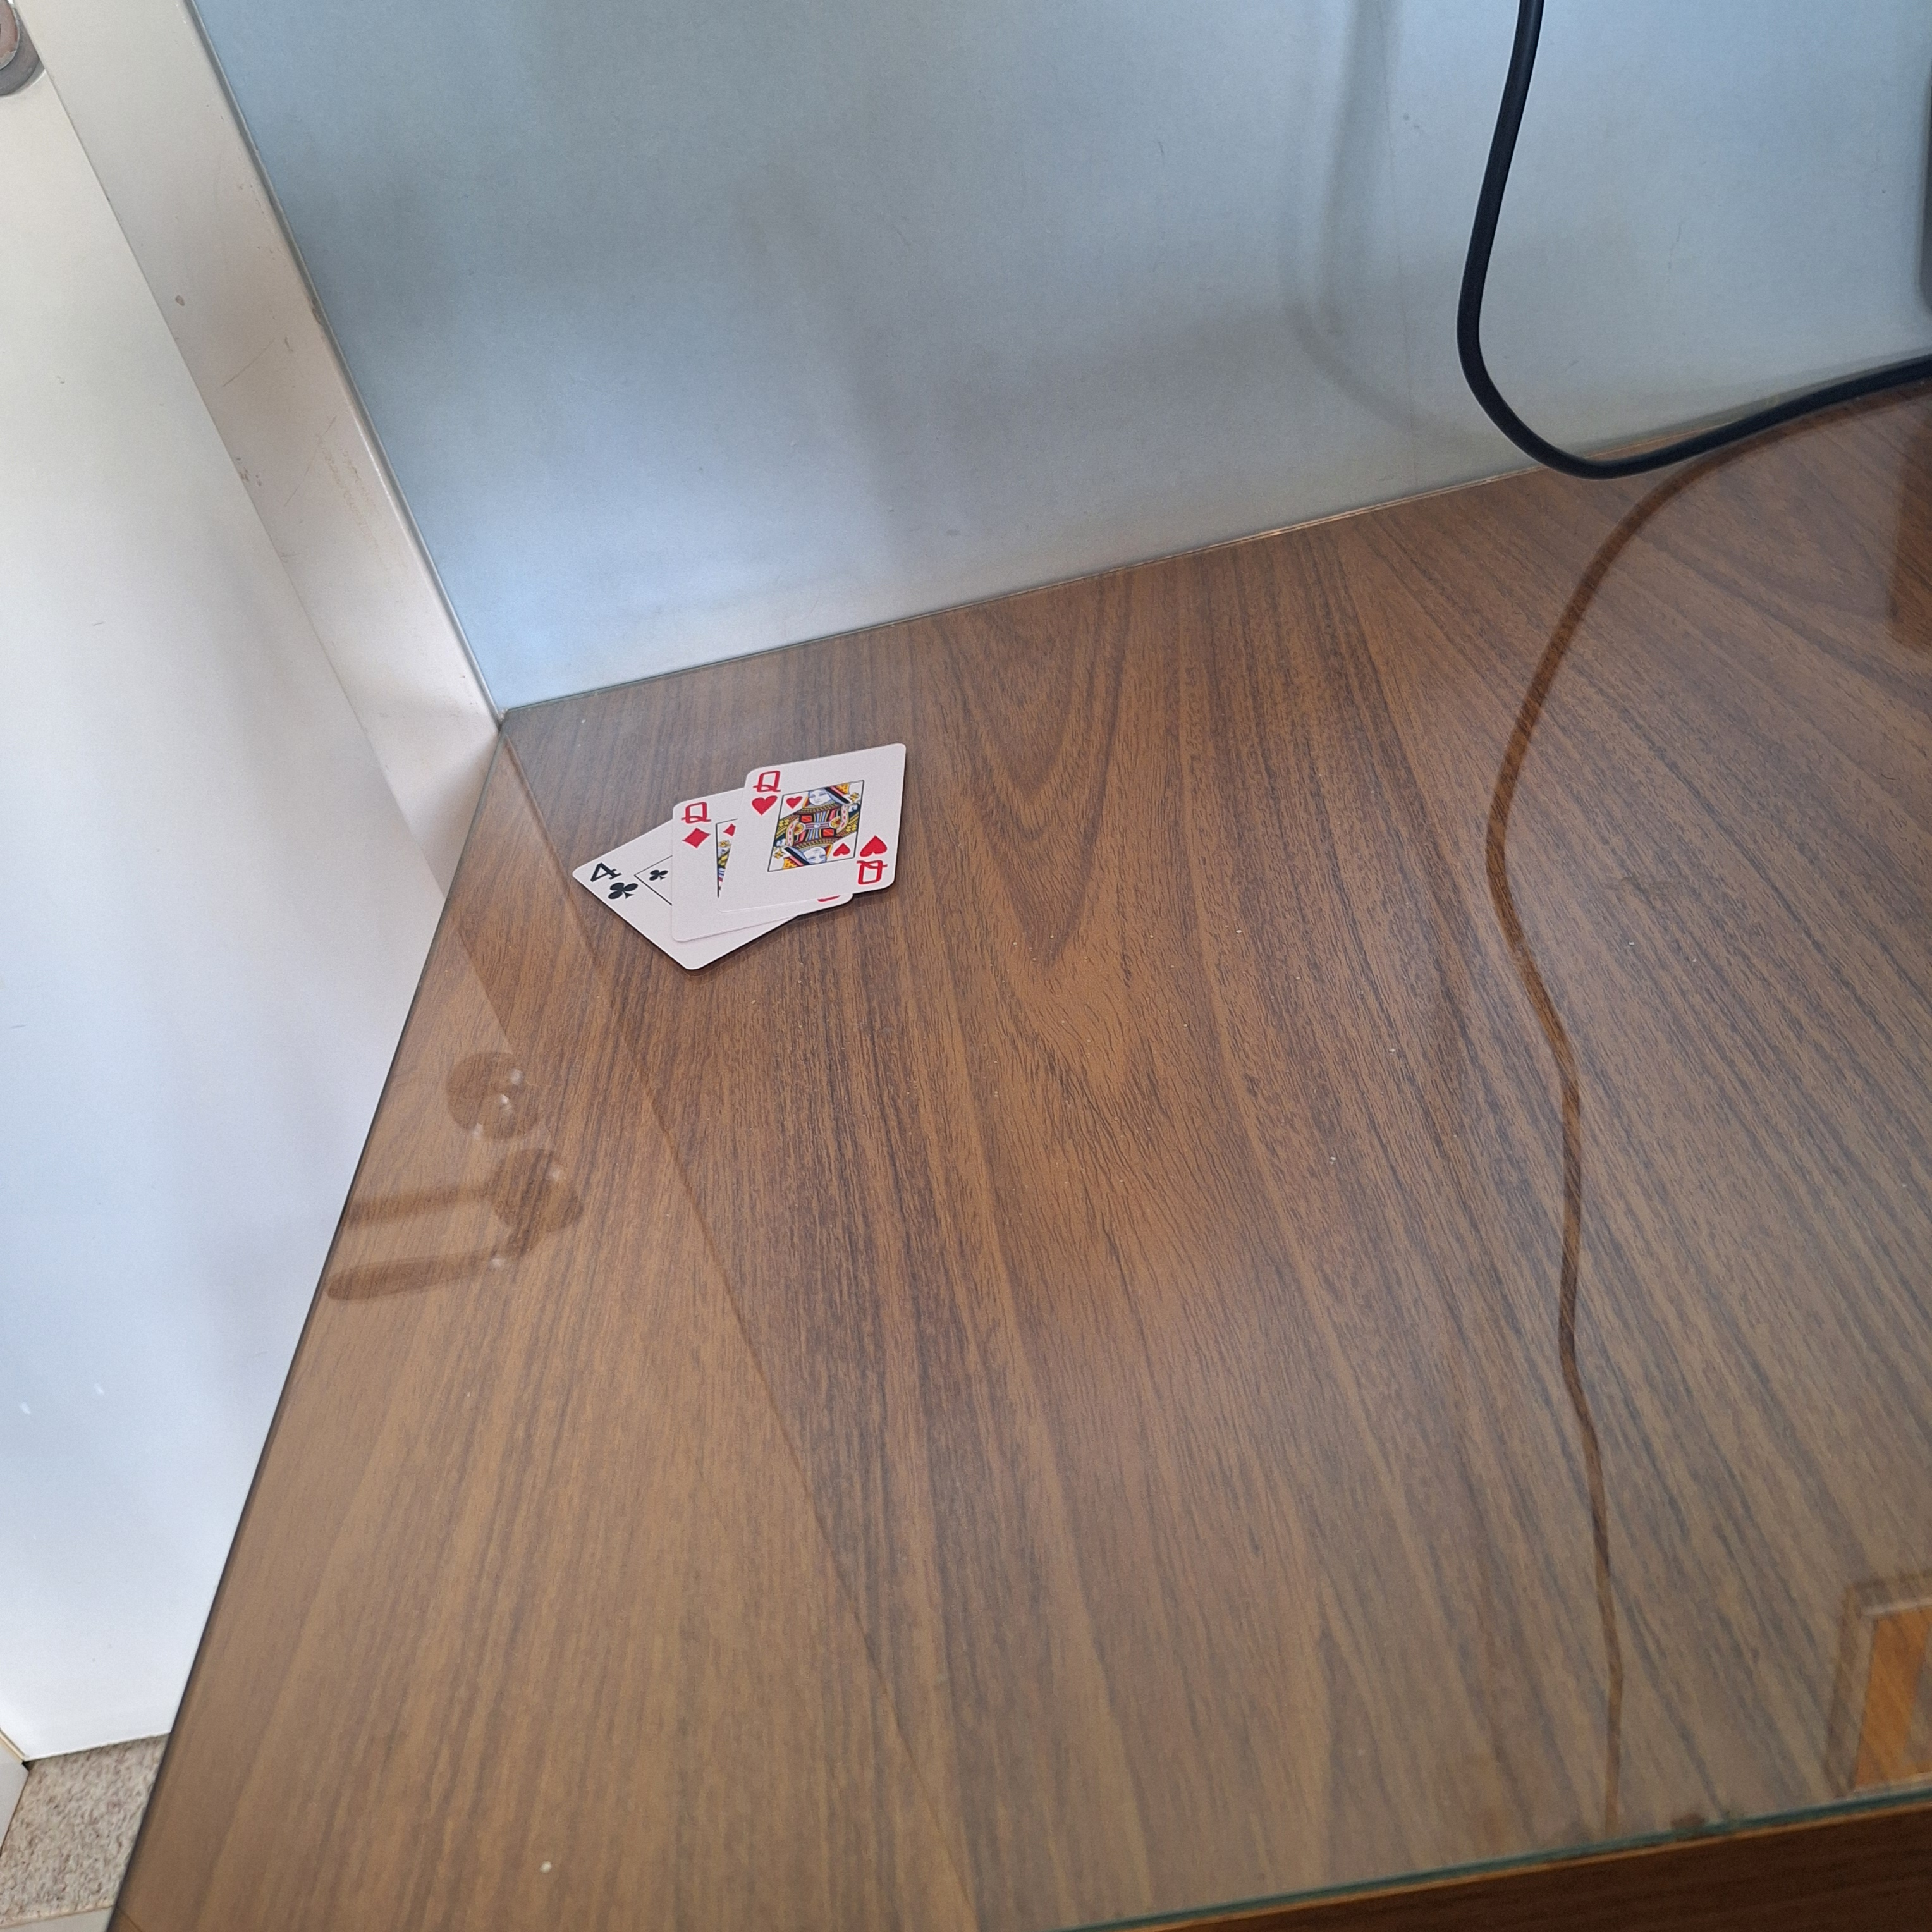4P: (586, 855, 640, 904)
QC: (855, 830, 892, 892), (747, 768, 782, 821)
QO: (672, 796, 718, 851)
